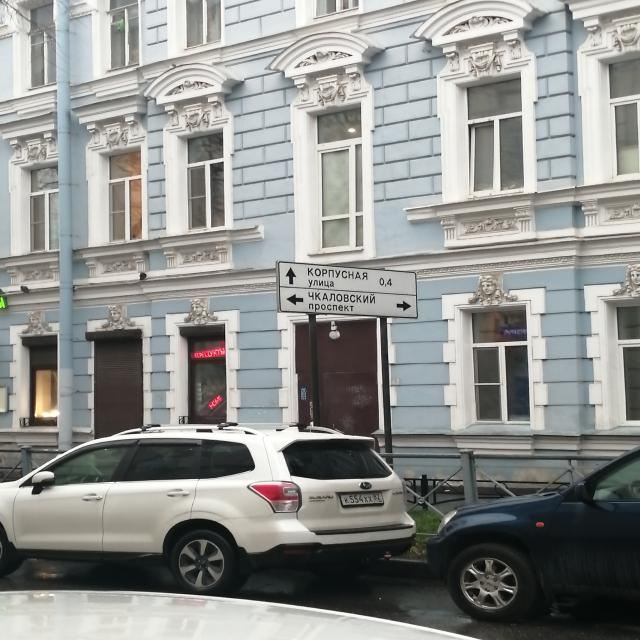road sign: (278, 262, 418, 297), (280, 288, 421, 319), (378, 319, 395, 468), (309, 316, 321, 426)
